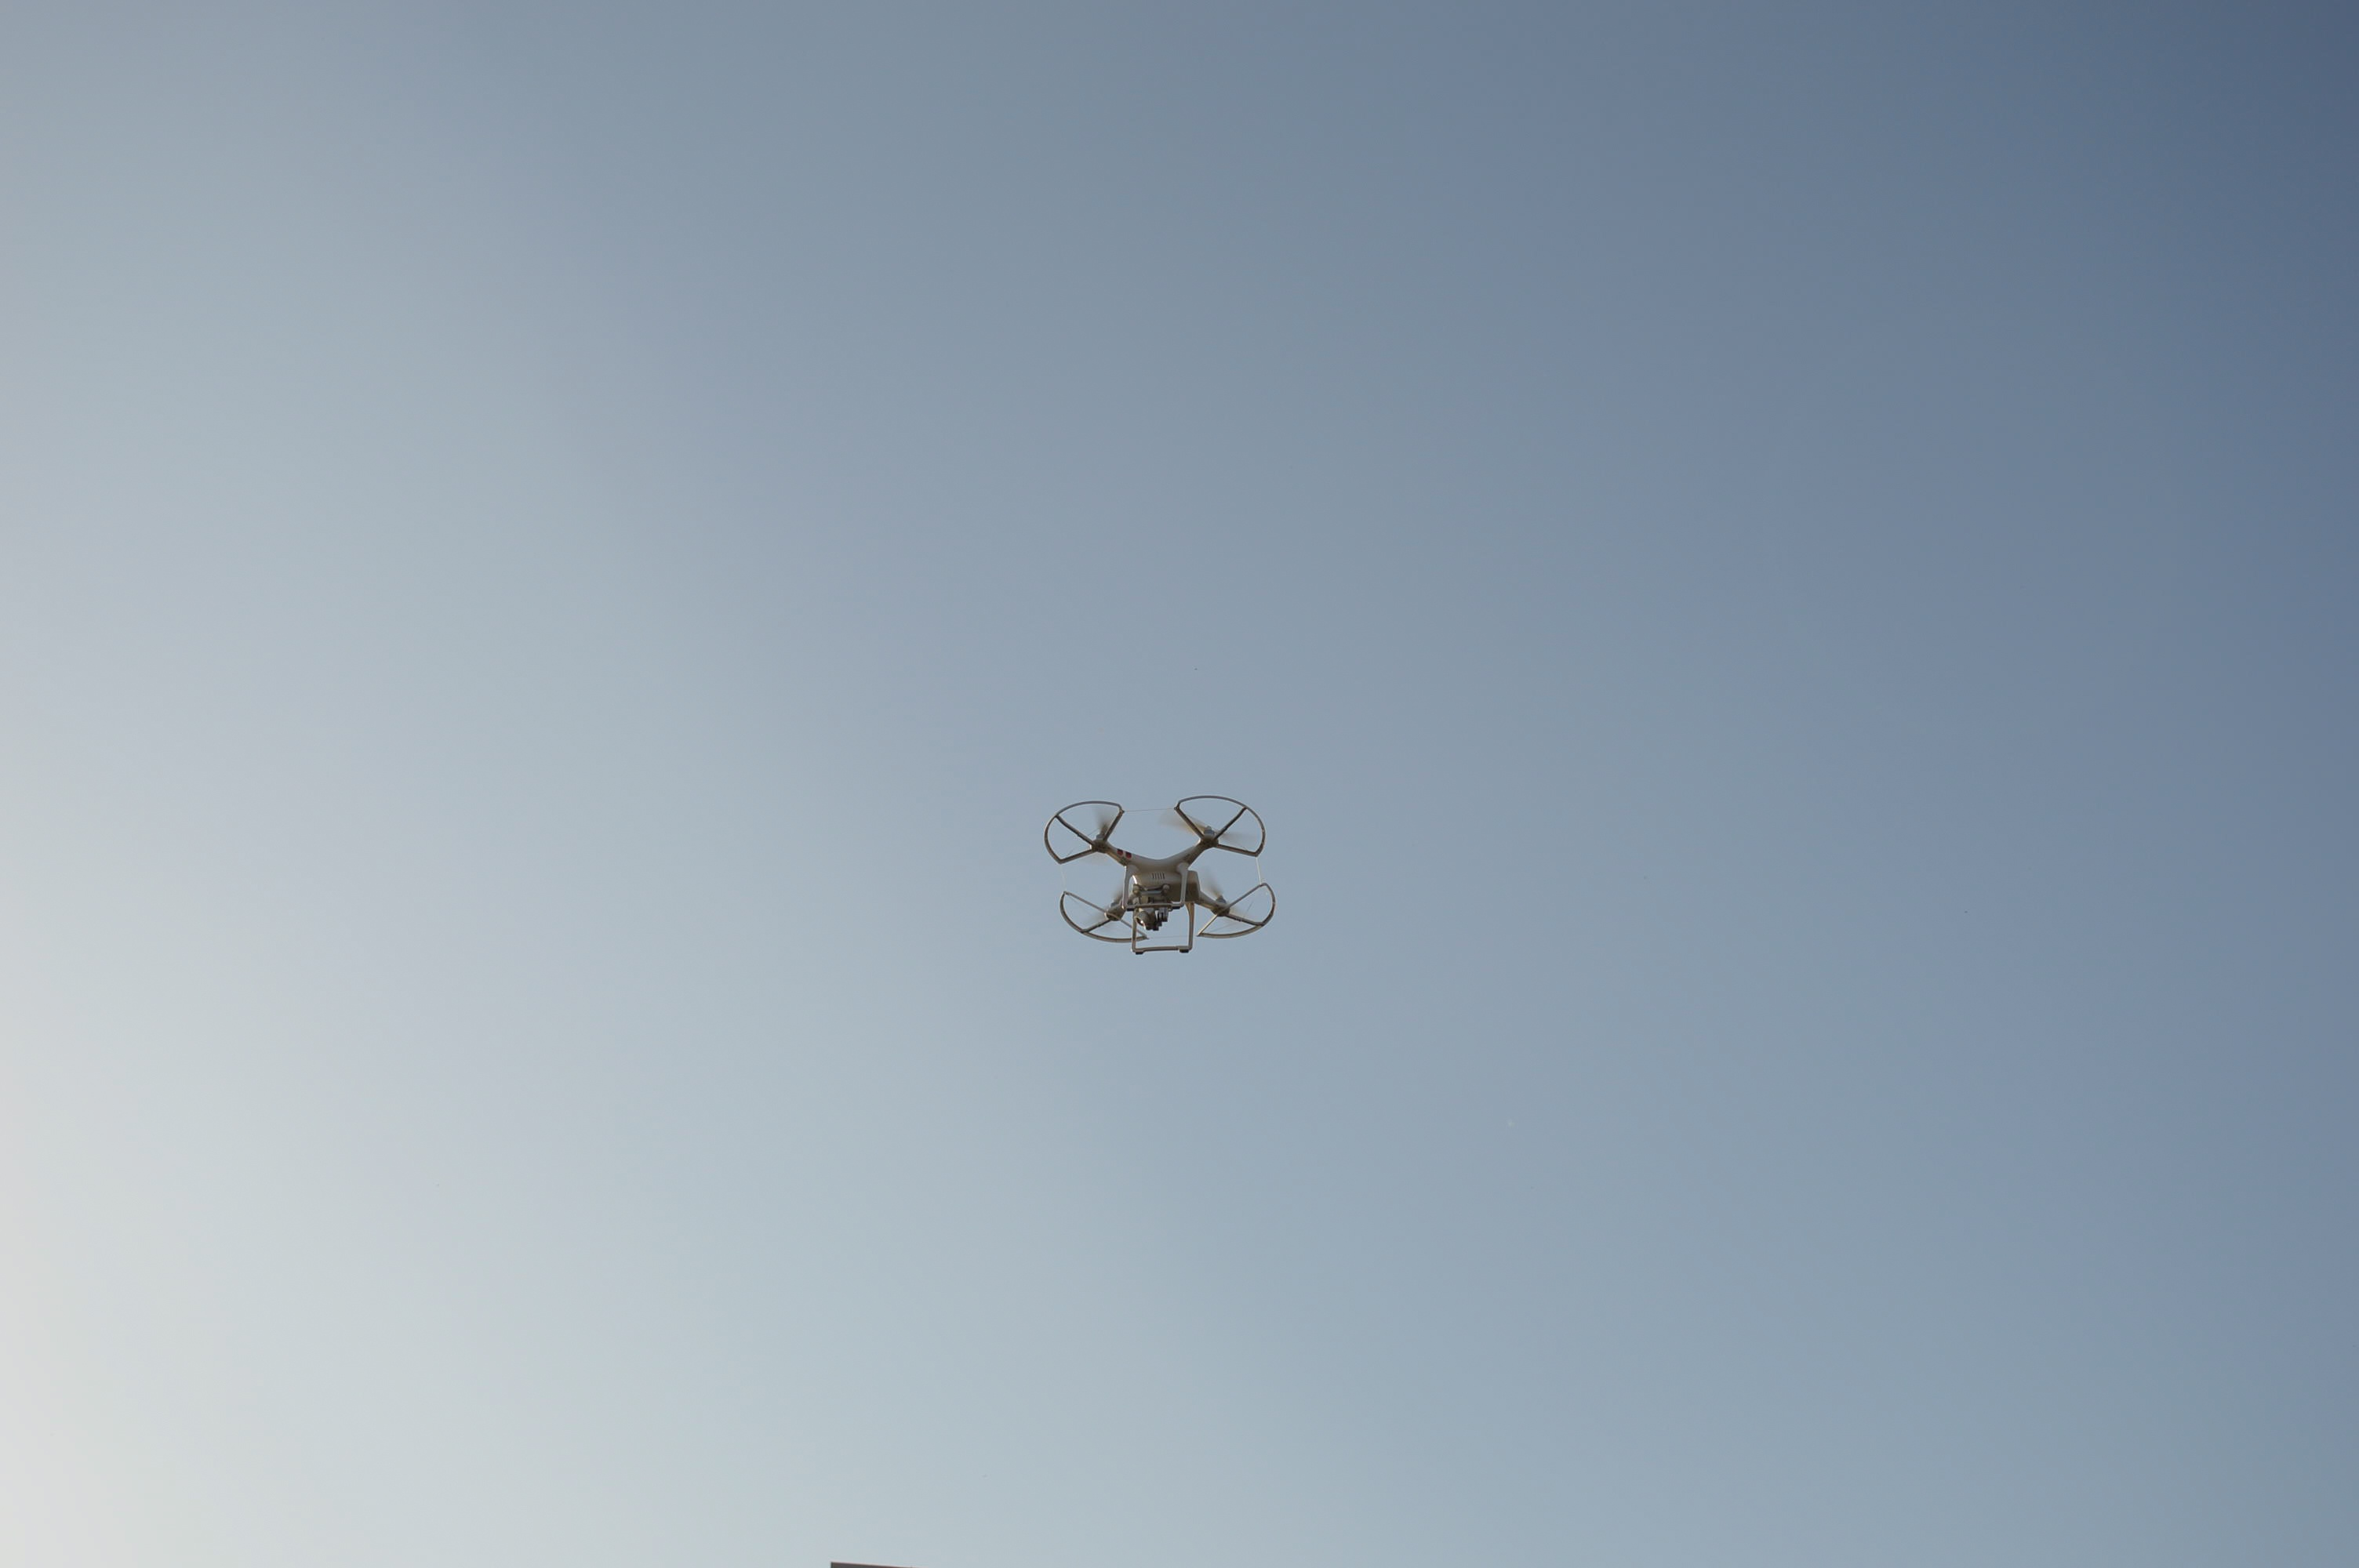DJI: (1045, 795, 1276, 950)
